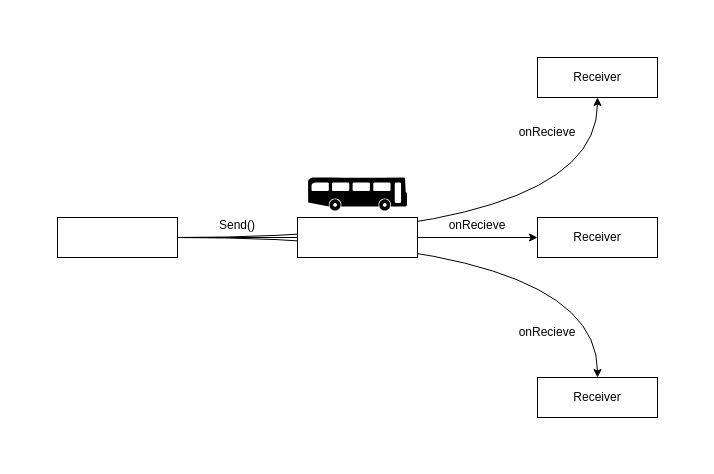
Some shapes in this 714 by 474 pixel diagram are drawn without their labels. Each missing label, with the centre of its shape:
Event Bus: (x=357, y=237)
Sender: (x=117, y=237)
